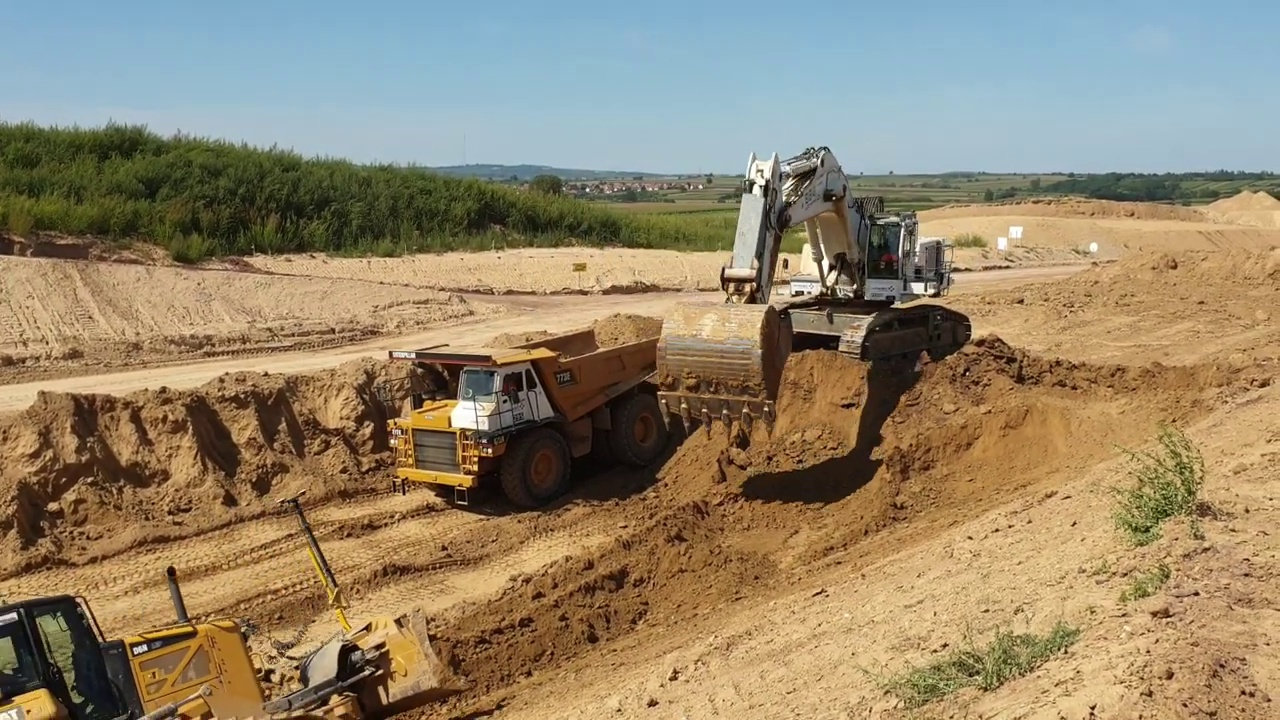bulldozer: (2, 488, 457, 720)
excavator: (654, 138, 974, 452)
truck: (374, 316, 674, 517)
